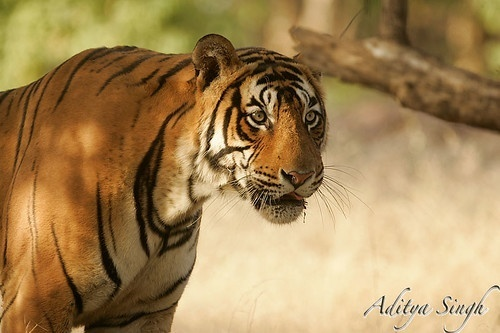tigre: (1, 31, 330, 332)
